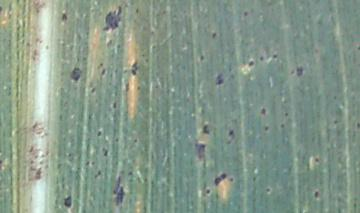tarspot: (101, 3, 122, 33), (111, 175, 127, 208), (192, 141, 208, 169), (68, 66, 82, 83), (223, 128, 236, 146), (213, 172, 228, 187), (214, 71, 224, 88), (62, 194, 73, 209), (295, 63, 305, 78), (130, 61, 139, 76), (201, 122, 210, 135), (34, 167, 43, 180), (123, 80, 131, 93), (101, 145, 109, 157), (312, 189, 320, 200), (262, 124, 271, 133), (60, 12, 68, 22), (94, 169, 102, 179), (105, 38, 112, 49), (94, 129, 102, 138), (259, 106, 267, 115), (247, 59, 255, 68), (250, 174, 258, 183), (99, 68, 107, 77), (204, 188, 212, 196), (112, 100, 118, 110), (134, 6, 140, 16), (263, 187, 270, 195), (210, 31, 217, 39), (242, 10, 249, 18), (279, 122, 286, 130), (314, 155, 320, 164), (332, 118, 339, 125), (89, 86, 96, 93), (132, 137, 139, 144), (89, 159, 96, 166), (271, 53, 279, 59), (135, 83, 141, 91), (288, 67, 294, 75), (356, 120, 360, 131), (258, 54, 264, 61), (114, 136, 120, 143), (127, 170, 133, 177), (84, 160, 90, 167), (228, 177, 234, 183), (199, 54, 204, 61), (283, 110, 288, 117), (98, 61, 103, 68), (67, 151, 72, 158), (1, 5, 4, 16), (356, 45, 360, 51)
